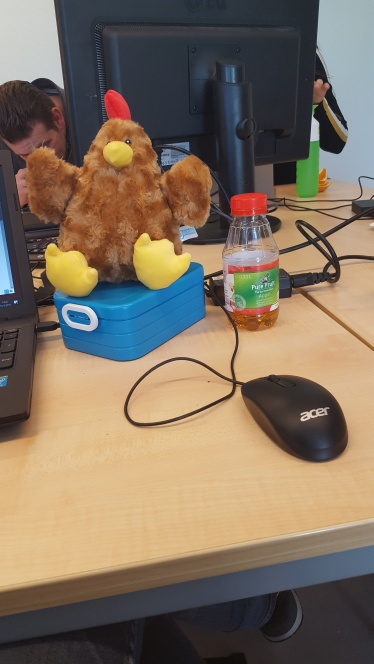chicken_front: (29, 90, 212, 296)
